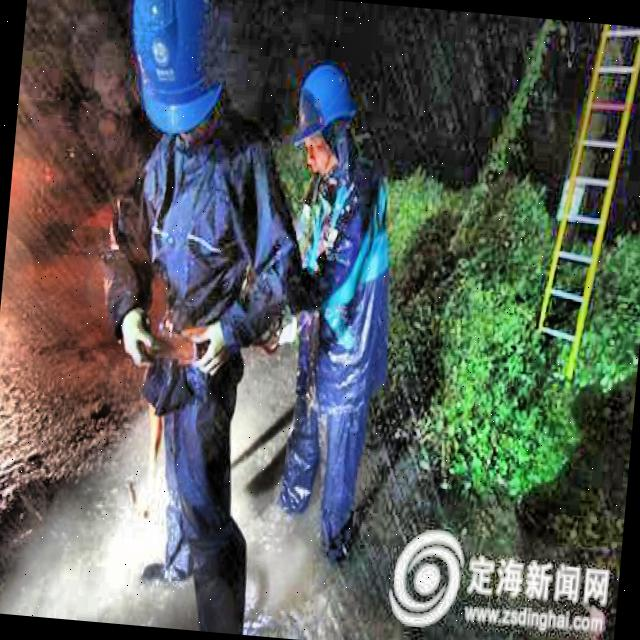helmet: (109, 0, 231, 165), (292, 57, 364, 187)
